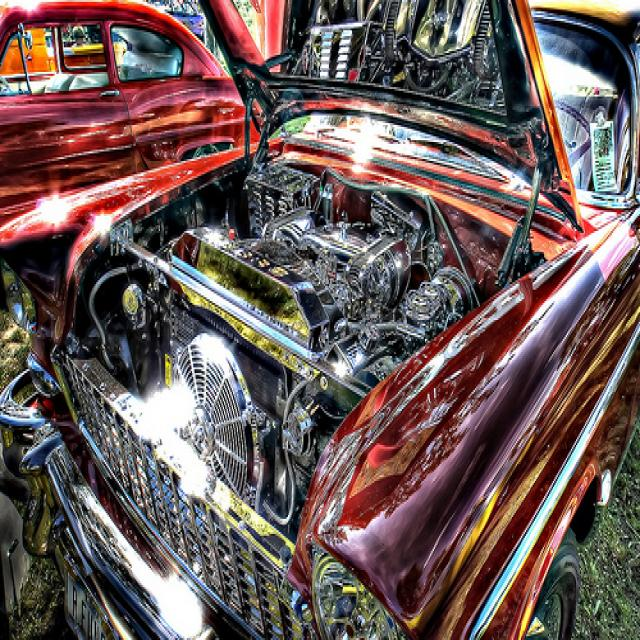Car: (0, 0, 640, 640), (0, 0, 276, 257)
